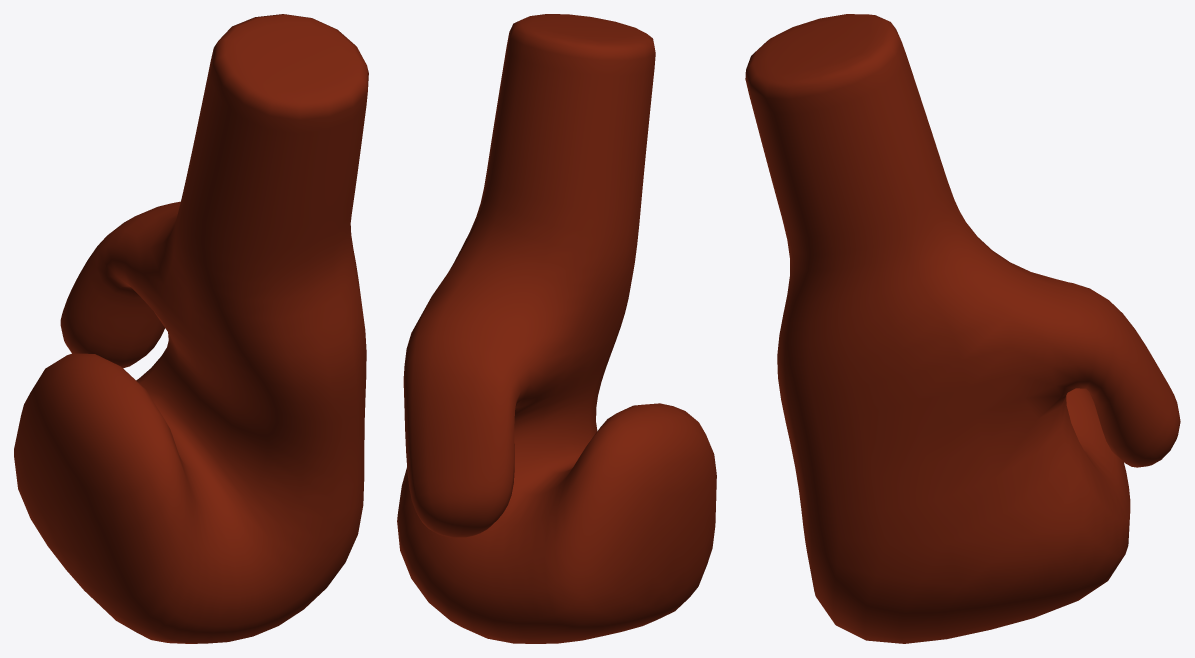
File: glove_v1_right.gltf
3 renders of one model, left to right at view 1: azimuth 30°, elevation 25°; view 2: azimuth 150°, elevation 25°; view 3: azimuth 270°, elevation 25°, orthographic. The views are drawn at different scales.
Visible parts, largest first — view 1: Right Glove; view 2: Right Glove; view 3: Right Glove.
Part boxes in pixels (box(x1,y1,x2,y2)): Right Glove: box(14, 14, 368, 643); Right Glove: box(397, 14, 716, 643); Right Glove: box(745, 14, 1180, 643).
Bounding box in the file's own units: 0.1451 × 0.3133 × 0.2011.
